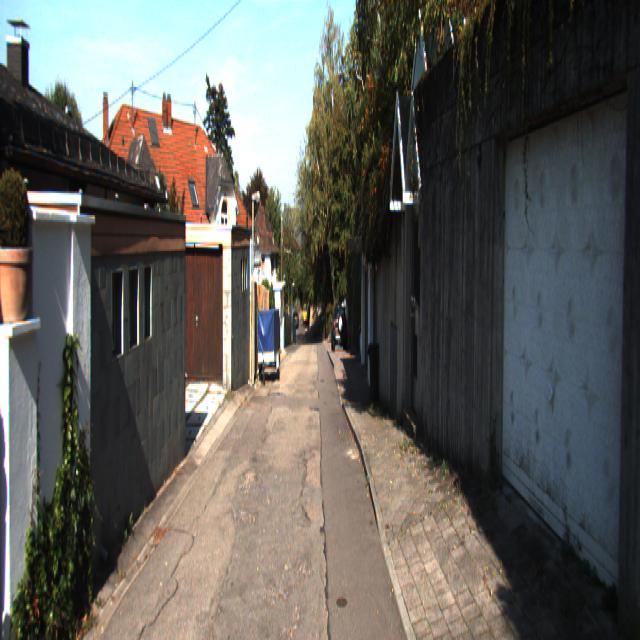Car: (330, 305, 348, 352)
DontCare: (292, 300, 308, 331)
Misc: (256, 307, 280, 385)
